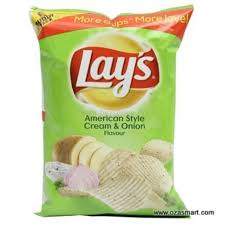lays-med: (28, 2, 196, 219)
